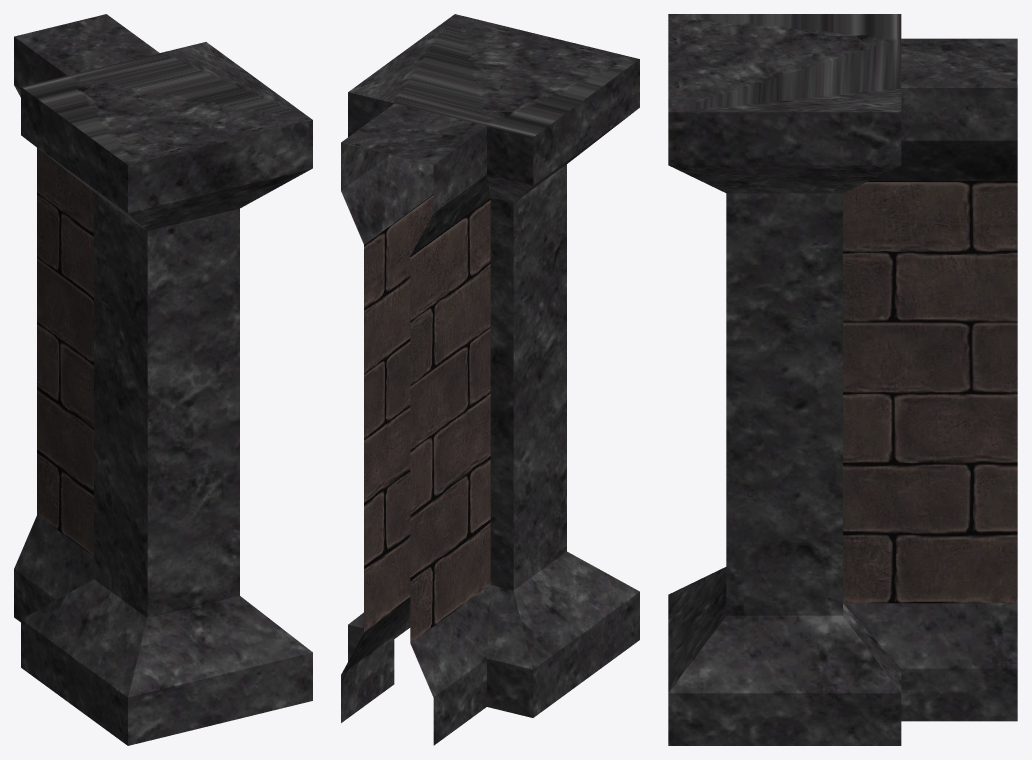
Rendered from Bk_End.glb.
The picture shows the model from 3 angles, left to right: view 1: azimuth 30°, elevation 25°; view 2: azimuth 150°, elevation 25°; view 3: azimuth 270°, elevation 25°; orthographic projection. The views are drawn at different scales.
Visible parts, largest first — view 1: Bk_End; view 2: Bk_End; view 3: Bk_End.
Part boxes in pixels (x1=…): Bk_End: x1=14, y1=14, x2=312, y2=745; Bk_End: x1=341, y1=14, x2=639, y2=745; Bk_End: x1=668, y1=14, x2=1017, y2=745.
Bounding box in the file's own units: 1 × 3 × 1.5.
1 material, 1 textured.
